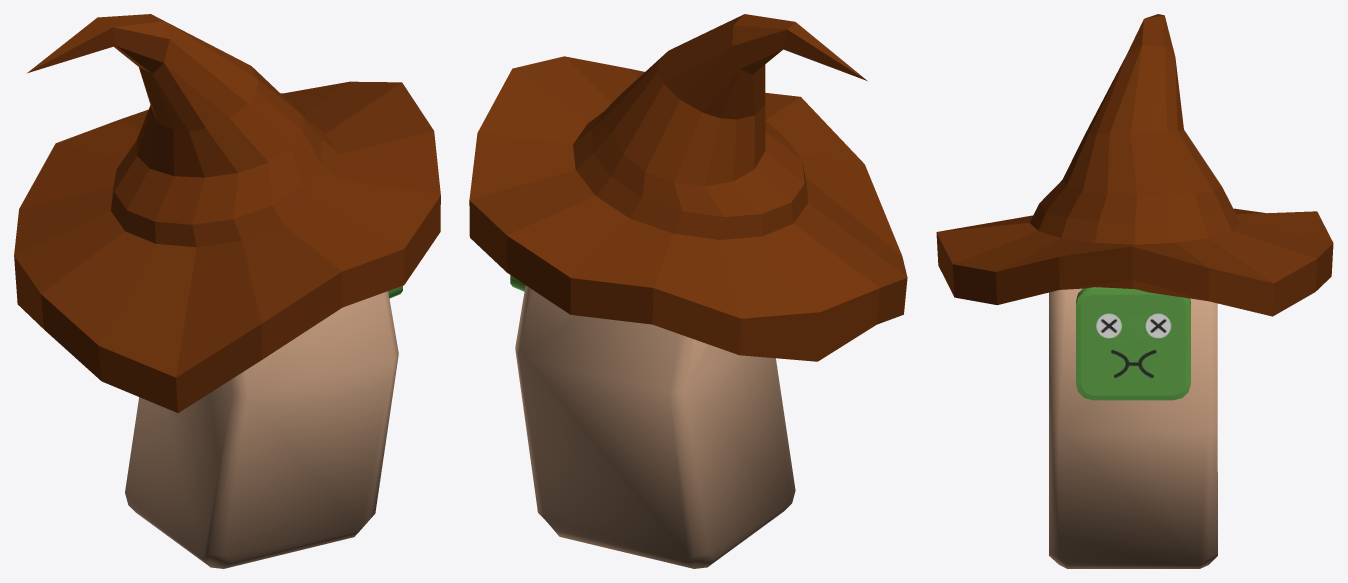
The model's file is Magic.fbx.
The picture shows the model from 3 angles, left to right: view 1: azimuth 30°, elevation 25°; view 2: azimuth 150°, elevation 25°; view 3: azimuth 270°, elevation 25°; orthographic projection. The views are drawn at different scales.
Parts seen in each view (by area): view 1: Hat.005, Cube.052; view 2: Hat.005, Cube.052; view 3: Hat.005, Cube.052, Cube.053.
Boxes of the visible parts, <box> form: Hat.005: <box>14,14,440,412</box>; Cube.052: <box>125,291,398,568</box>; Hat.005: <box>469,14,907,361</box>; Cube.052: <box>515,285,795,568</box>; Hat.005: <box>936,14,1333,316</box>; Cube.052: <box>1049,288,1217,568</box>; Cube.053: <box>1076,287,1190,400</box>.
Size of the model in its own units: 65.56 by 61.01 by 84.59.
